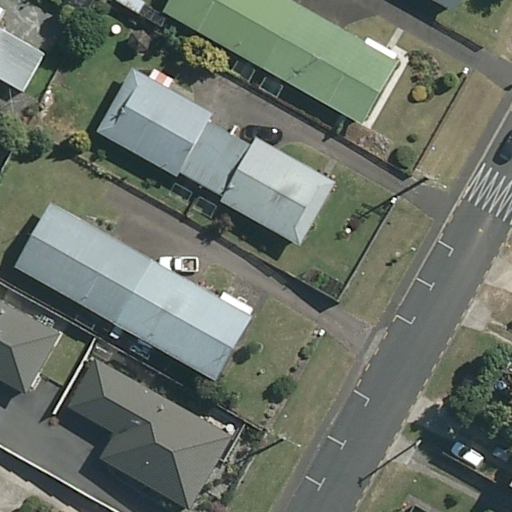DT: (262, 421, 303, 453), (414, 165, 445, 188)
